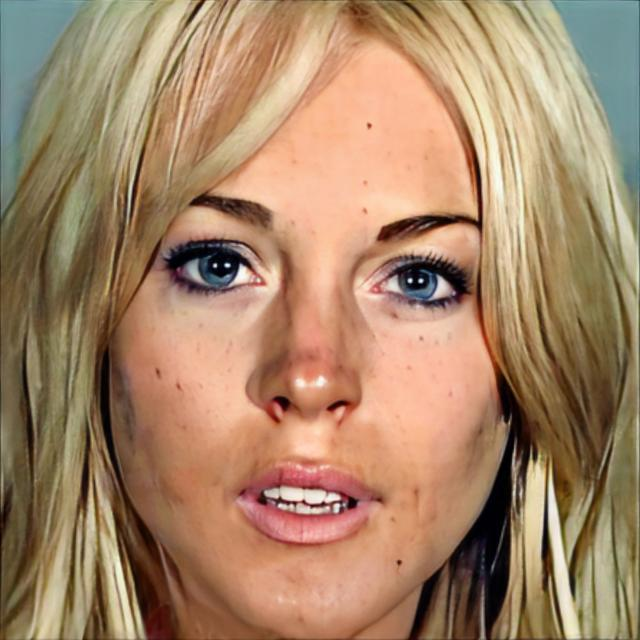surprise: (109, 20, 514, 640)
